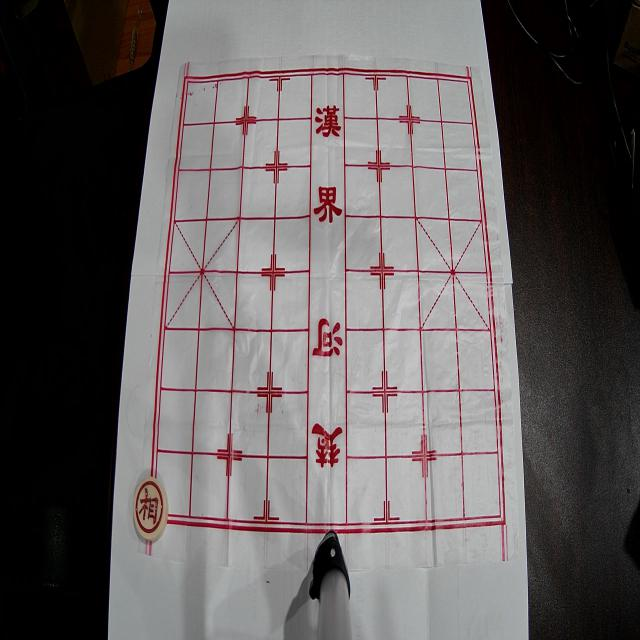red-elephant: (134, 476, 168, 541)
